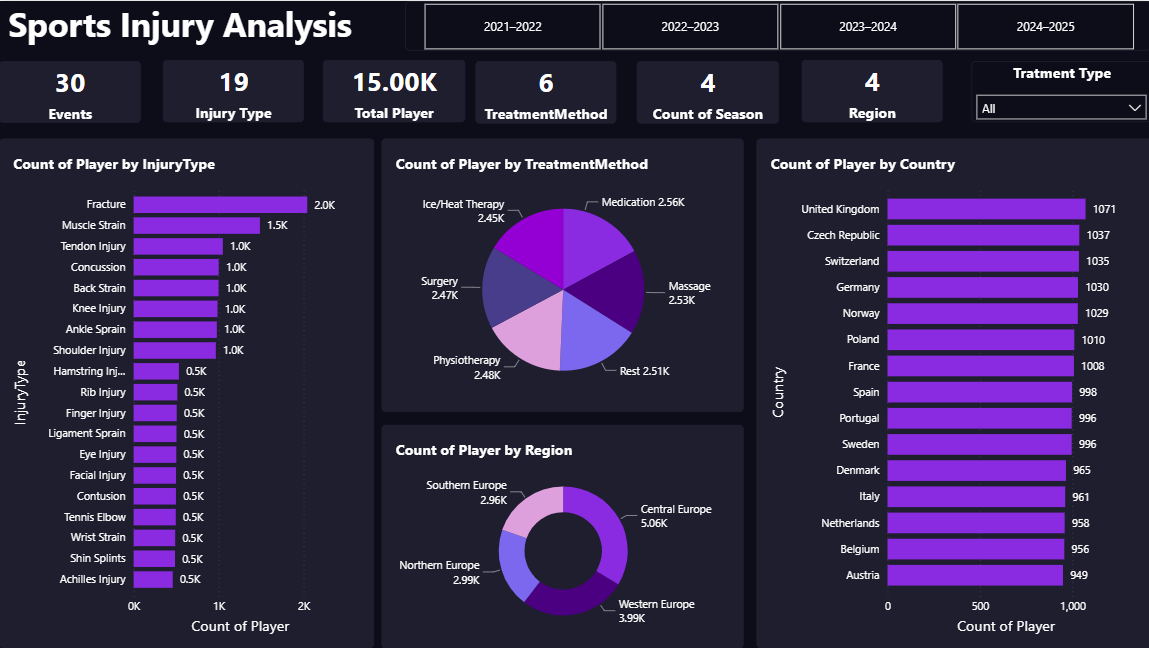

The dashboard page shown, as its layout file describes it:
{"tool":"powerbi","page":{"name":"Page 2","canvas":[1280,720],"ordinal":1},"visuals":[{"type":"card","fields":{"Values":["Count(Location.Region)"]},"box":[891.7,65.3,156.9,69.4],"z":0},{"type":"donutChart","fields":{"Category":["Location.Region"],"Y":["Count(Player)"]},"box":[425,470.8,402.8,248.6],"z":1},{"type":"card","fields":{"Values":["Count(Player.PlayerDimKey)"]},"box":[359.7,65.3,158.3,69.4],"z":2},{"type":"clusteredBarChart","fields":{"Category":["InjuryType.InjuryType"],"Y":["Count(Player)"]},"box":[0,152.8,416.7,566.7],"z":3},{"type":"card","fields":{"Values":["Count(Treatment.TreatmentMethod)"]},"box":[529.2,66.7,156.9,69.4],"z":4},{"type":"pieChart","fields":{"Category":["Treatment.TreatmentMethod"],"Y":["Count(Player)"]},"box":[425,152.8,402.8,304.2],"z":5},{"type":"card","fields":{"Values":["Count(Event.EventName)"]},"box":[0,67.2,157.8,68.6],"z":7},{"type":"textbox","box":[0,0,425.4,72.7],"z":9},{"type":"card","fields":{"Values":["Count(InjuryType.InjuryType)"]},"box":[181.9,65.3,156.9,69.4],"z":10},{"type":"card","fields":{"Values":["Count(Injuries.Season)"]},"box":[708.3,66.7,158.3,69.4],"z":11},{"type":"slicer","fields":{"Values":["Injuries.Season"]},"box":[451.4,0,829.2,55.6],"z":12},{"type":"slicer","title":"Tratment Type","fields":{"Values":["Treatment.TreatmentMethod"]},"box":[1080.6,66.7,200,68.1],"z":13},{"type":"clusteredBarChart","fields":{"Category":["Location.Country"],"Y":["Count(Player)"]},"box":[841.7,152.8,438.9,566.7],"z":14}]}

Visuals, with their boxes in screenshot pixels (x1, y1, x2, y2), scaled from the page's 1280x720 canvas onto the 1149x648 screenshot:
card - Count(Location.Region): left=800, top=59, right=941, bottom=121
donutChart - Location.Region x Count(Player): left=382, top=424, right=743, bottom=647
card - Count(Player.PlayerDimKey): left=323, top=59, right=465, bottom=121
clusteredBarChart - InjuryType.InjuryType x Count(Player): left=0, top=138, right=374, bottom=647
card - Count(Treatment.TreatmentMethod): left=475, top=60, right=616, bottom=122
pieChart - Treatment.TreatmentMethod x Count(Player): left=382, top=138, right=743, bottom=411
card - Count(Event.EventName): left=0, top=60, right=142, bottom=122
textbox: left=0, top=0, right=382, bottom=65
card - Count(InjuryType.InjuryType): left=163, top=59, right=304, bottom=121
card - Count(Injuries.Season): left=636, top=60, right=778, bottom=122
slicer - Injuries.Season: left=405, top=0, right=1148, bottom=50
"Tratment Type" slicer: left=970, top=60, right=1148, bottom=121
clusteredBarChart - Location.Country x Count(Player): left=756, top=138, right=1148, bottom=647
